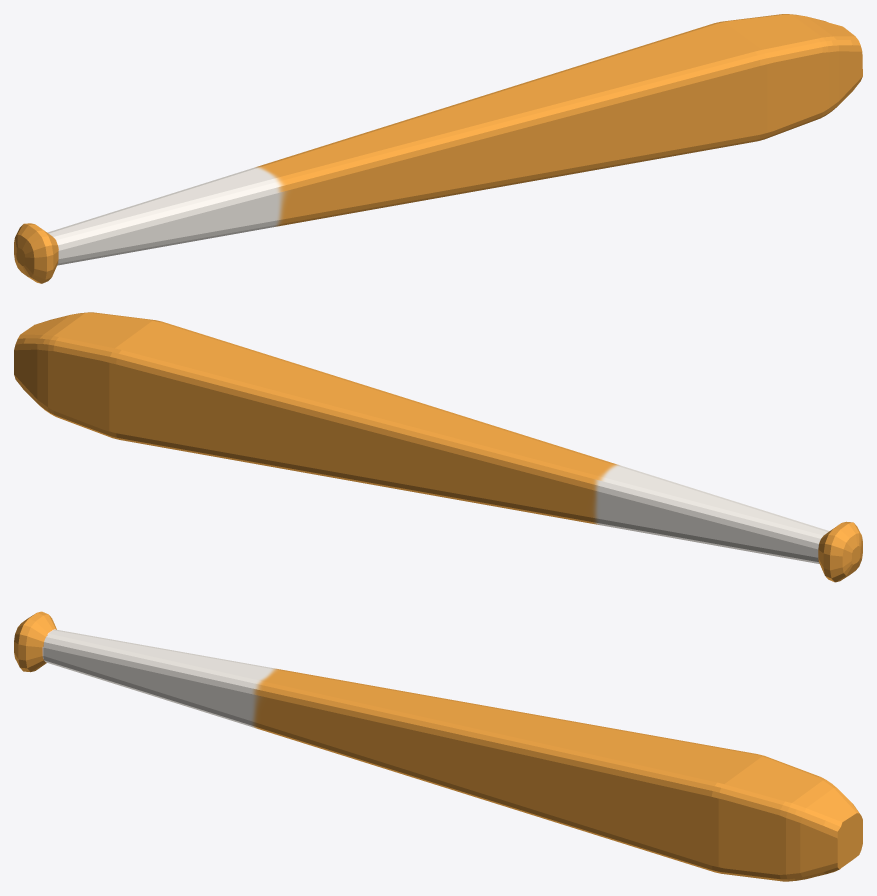
File: BaseBallBat.fbx
3 views of the same model, one above another, from view 1: azimuth 30°, elevation 25°; view 2: azimuth 150°, elevation 25°; view 3: azimuth 330°, elevation 25° (orthographic).
Visible parts, largest first — view 1: BaseBallBat; view 2: BaseBallBat; view 3: BaseBallBat.
Boxes of the visible parts, x1,y1,x2,y2 form: BaseBallBat: [14, 14, 862, 283]; BaseBallBat: [14, 312, 862, 582]; BaseBallBat: [14, 611, 862, 881].
Bounding box in the file's own units: 6072 × 624 × 624.
